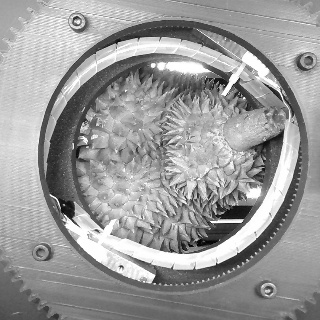base: (213, 116, 257, 160)
end: (263, 105, 287, 130)
